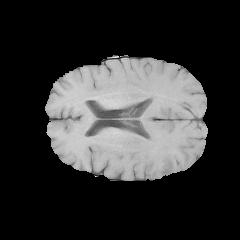glioma: (156, 152, 184, 176)
